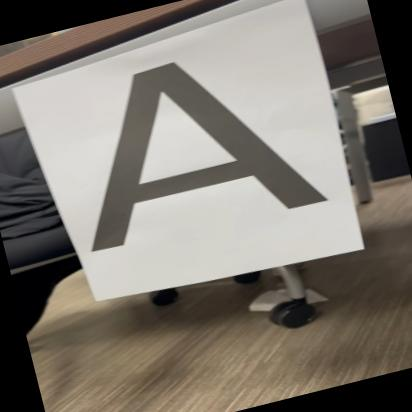seat: (25, 15, 352, 272)
